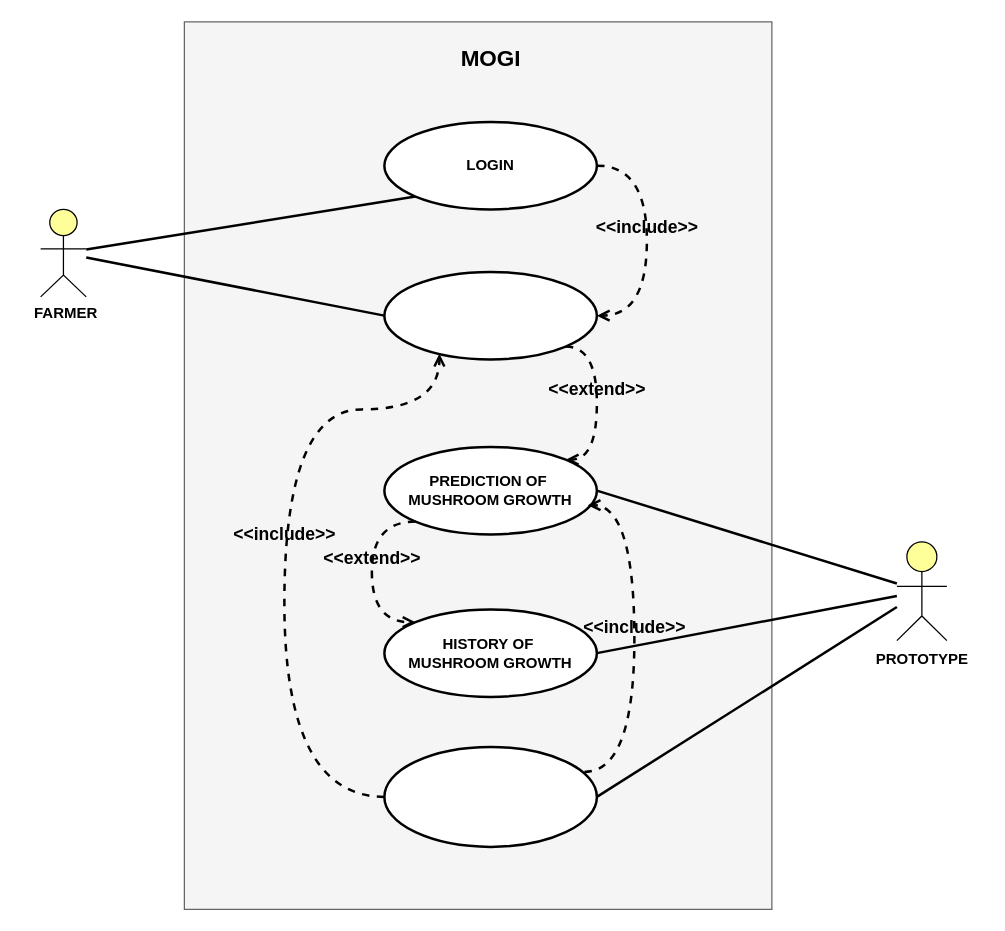
Image size: 1005x931. Some labels were removed from this diagram. The centre of each missing label's shape, as x and y in pixels:
INPUT DATA: point 490,796
TEMPERATURE AND HUMIDITY MONITOR: point 490,315
